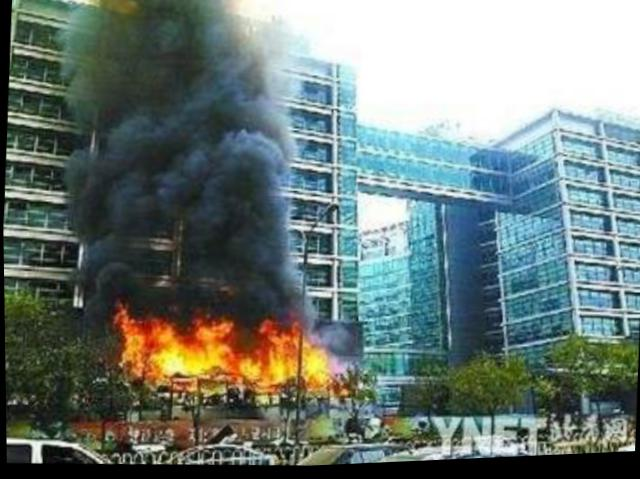fire: (110, 286, 334, 405)
